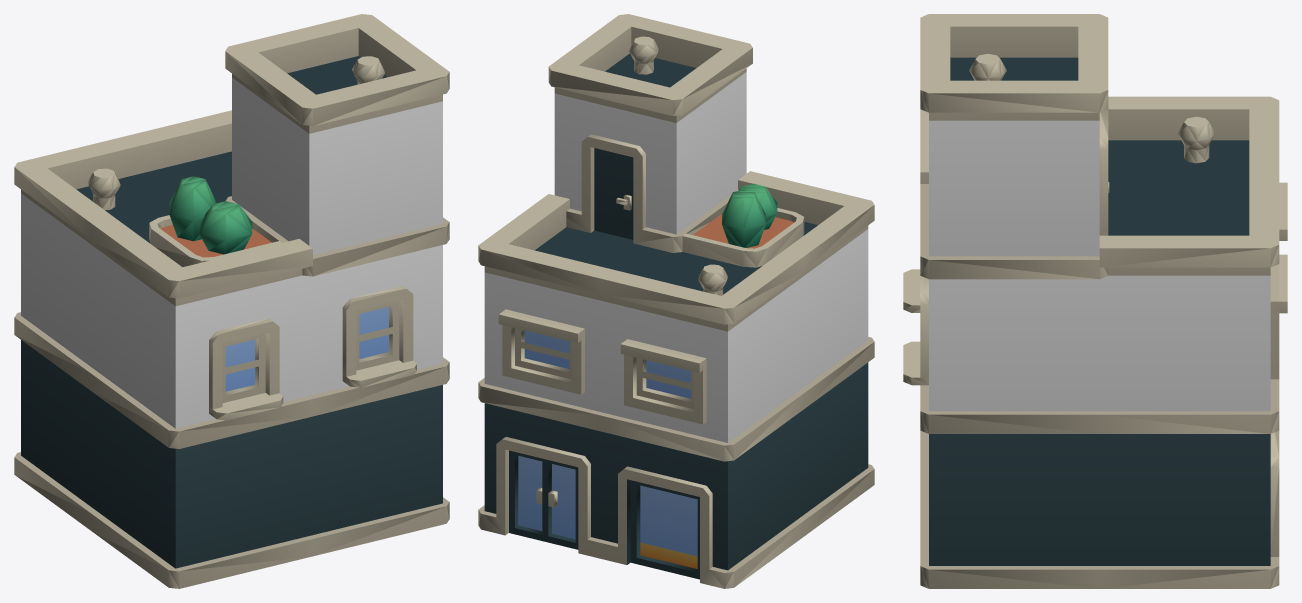
File: building-d.glb
The picture shows the model from 3 angles, left to right: view 1: azimuth 30°, elevation 25°; view 2: azimuth 150°, elevation 25°; view 3: azimuth 270°, elevation 25°; orthographic projection. The views are drawn at different scales.
Visible parts, largest first — view 1: building-d; view 2: building-d; view 3: building-d.
Part boxes in pixels (x1,y1,x2,y2): building-d: (14,14,449,588); building-d: (478,14,874,588); building-d: (903,14,1287,588).
Bounding box in the file's own units: 8.4 × 12.93 × 9.
